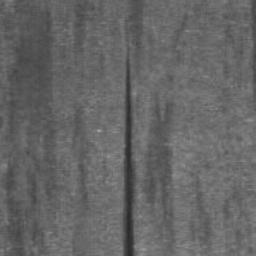Scratches: (123, 50, 134, 256)
